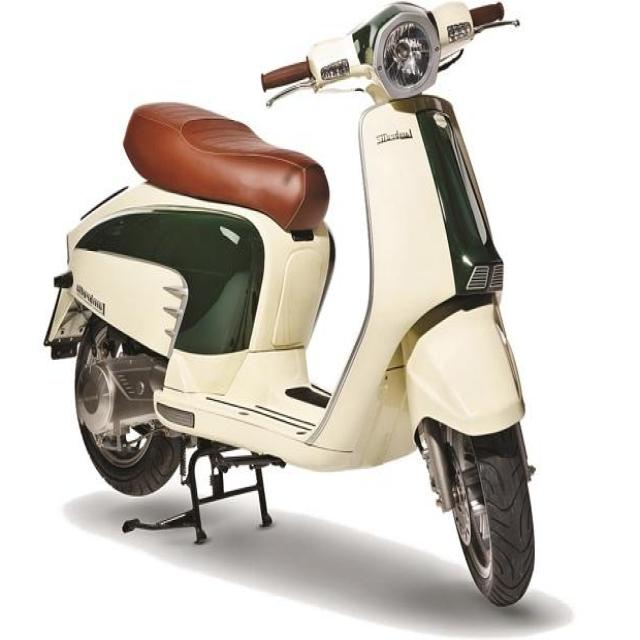motorcycle: (45, 3, 535, 604)
